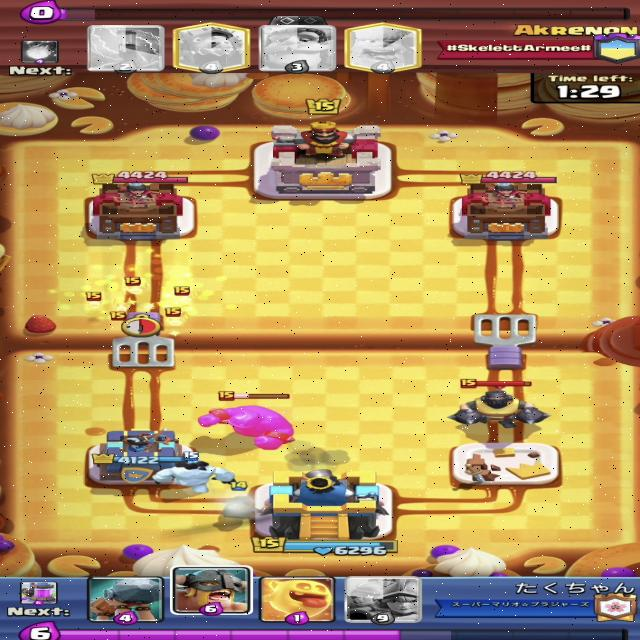Enemy-Bat: (148, 307, 209, 326), (149, 288, 205, 308), (72, 279, 115, 305), (115, 276, 156, 297)
Enemy-ElixirGolem: (197, 390, 296, 450)
Enemy-MegaKnight: (449, 377, 549, 430)
Player-Bandit: (216, 481, 265, 519)
Player-IceGolem: (152, 449, 239, 495)
